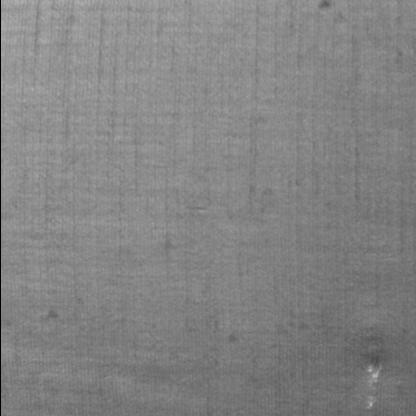thread error: (356, 340, 384, 416)
